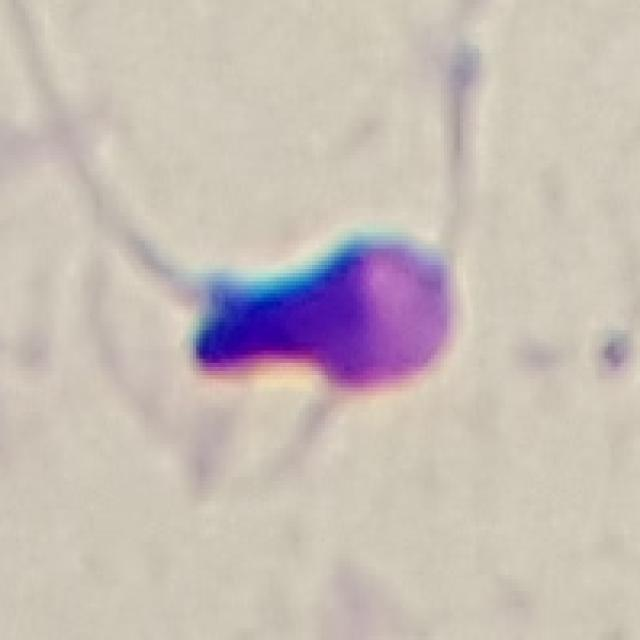abnormal sperm: (90, 226, 484, 405)
